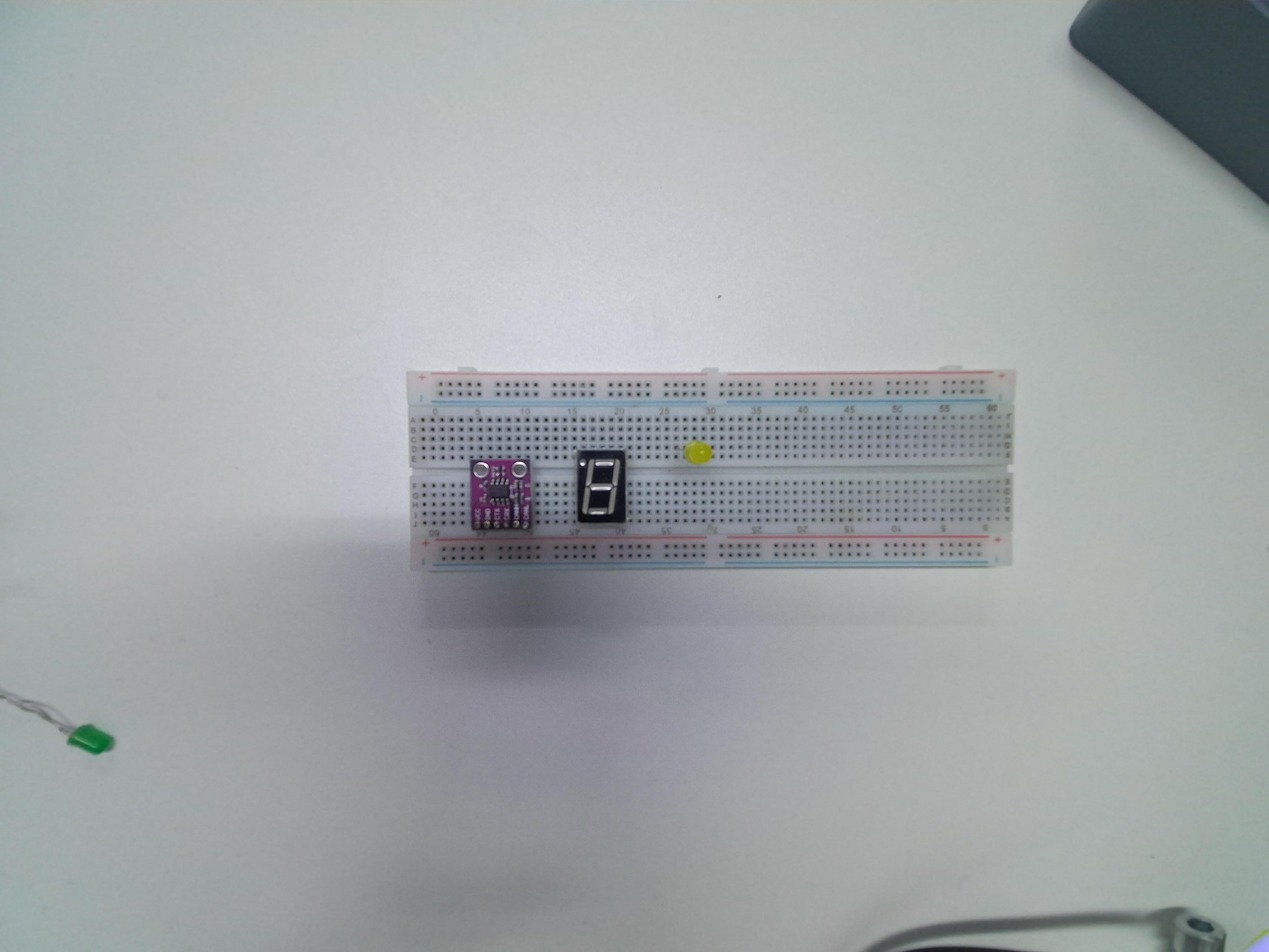base: (408, 366, 1021, 582)
digit-board: (575, 448, 629, 525)
green-led: (64, 716, 117, 770)
purple-board: (468, 456, 534, 533)
yellow-led: (684, 441, 713, 465)
